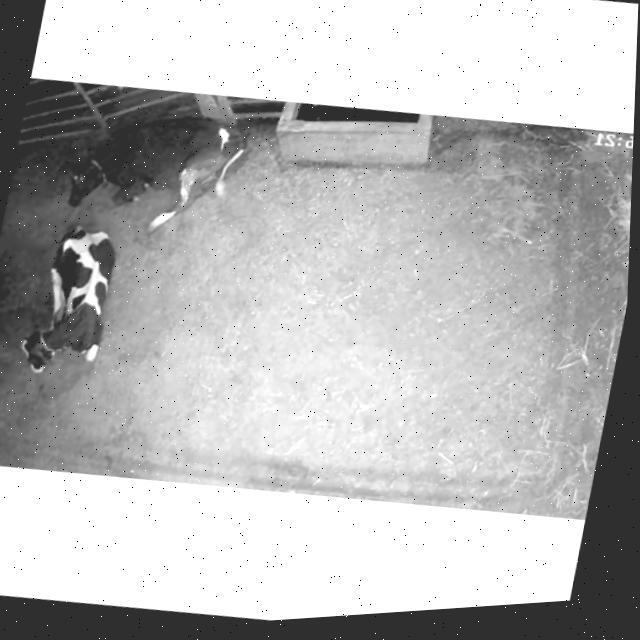lay: (56, 85, 259, 239), (5, 205, 135, 399)
